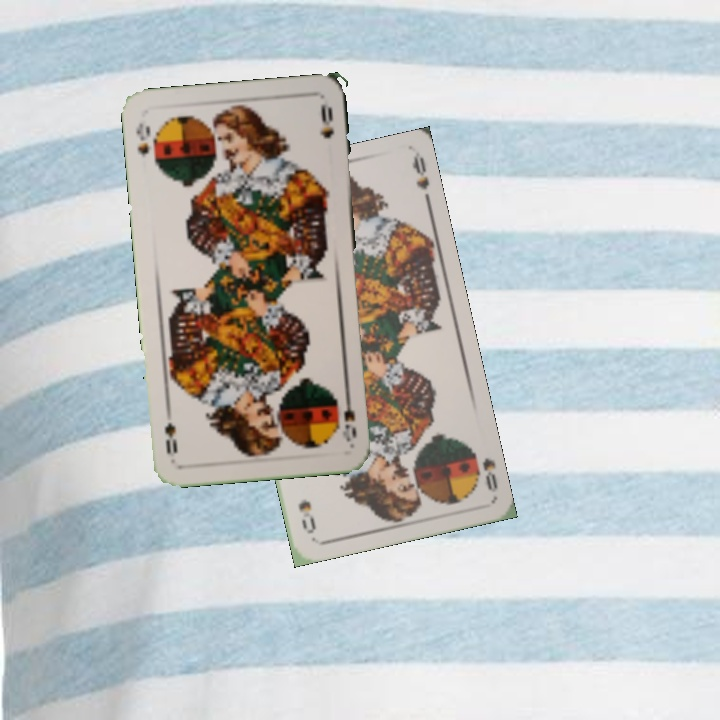SO: (465, 443, 500, 495), (340, 387, 359, 445), (132, 119, 153, 158)
